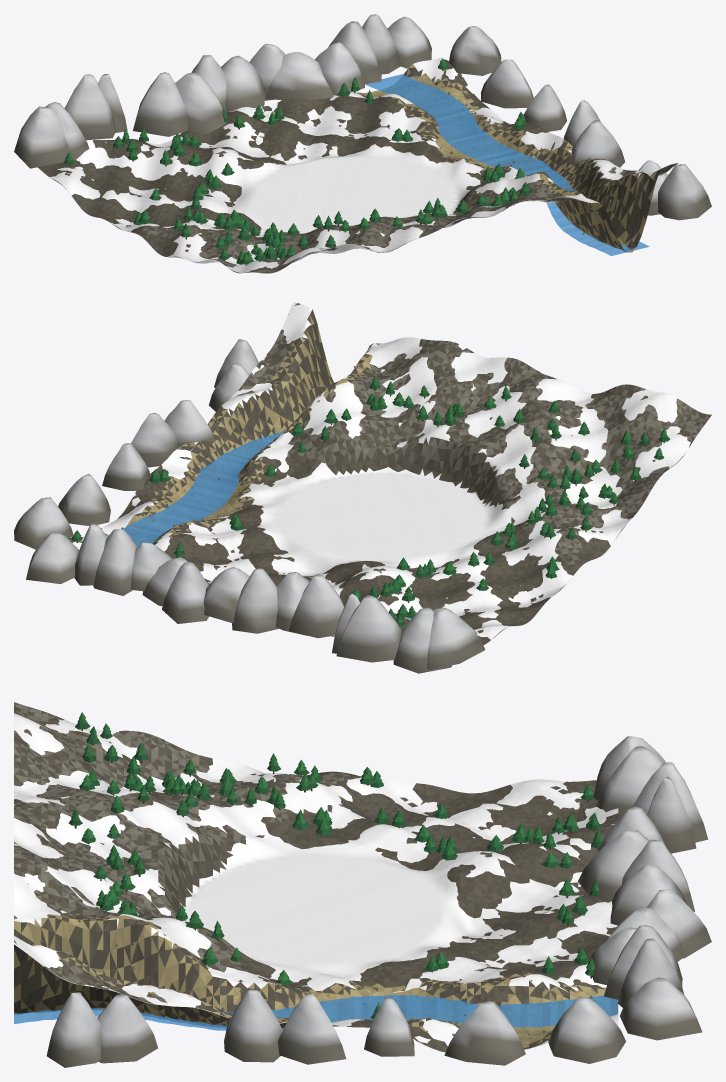
File: river_landscape.glb
3 views of the same model, one above another, from view 1: azimuth 30°, elevation 25°; view 2: azimuth 150°, elevation 25°; view 3: azimuth 270°, elevation 25° (orthographic). The views are drawn at different scales.
Visible parts, largest first — view 1: RiverLandscape; view 2: RiverLandscape; view 3: RiverLandscape.
Boxes of the visible parts, x1,y1,x2,y2 form: RiverLandscape: (14, 14, 711, 273); RiverLandscape: (14, 302, 711, 673); RiverLandscape: (14, 702, 711, 1067).
Size of the model in its own units: 91.61 by 16.33 by 92.42.
